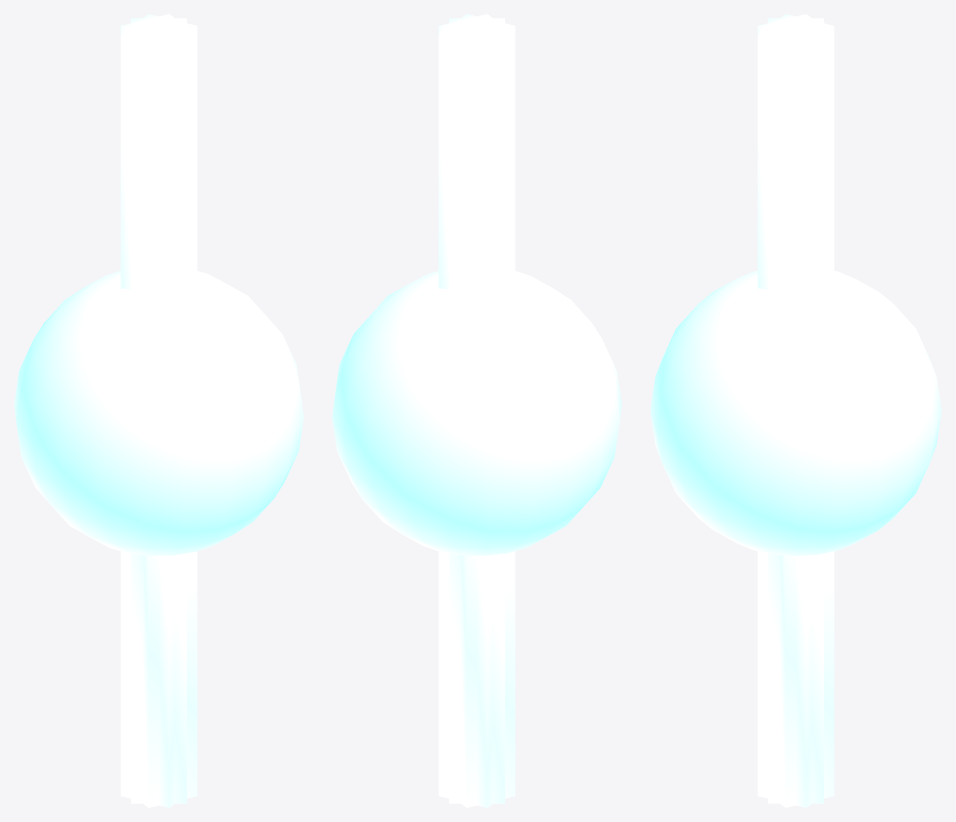
File: Prop_FreezeDrift.fbx
3 views of the same model, side by side, from view 1: azimuth 30°, elevation 25°; view 2: azimuth 150°, elevation 25°; view 3: azimuth 270°, elevation 25° (orthographic).
Parts seen in each view (by area): view 1: Prop_FreezeDrift; view 2: Prop_FreezeDrift; view 3: Prop_FreezeDrift.
Boxes of the visible parts, box(x1,y1,x2,y2) form: Prop_FreezeDrift: box(14, 14, 303, 807); Prop_FreezeDrift: box(332, 14, 621, 807); Prop_FreezeDrift: box(650, 14, 941, 807).
Size of the model in its own units: 5.2 by 15 by 5.2.
